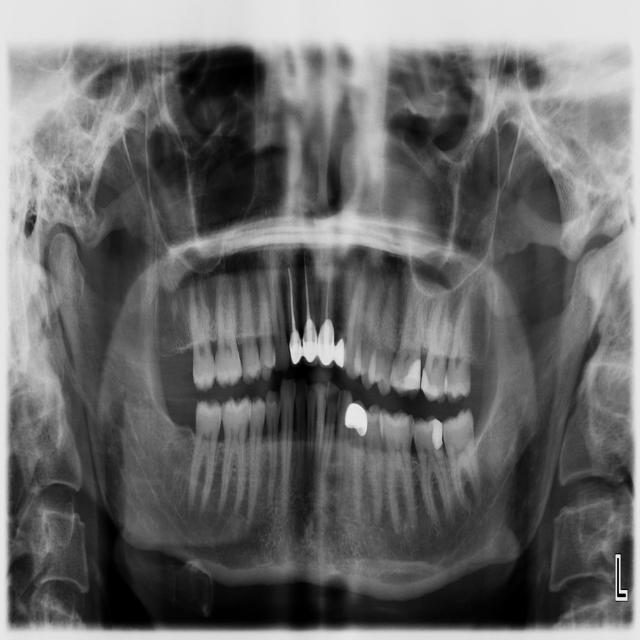mandibula: (49, 235, 607, 599)
